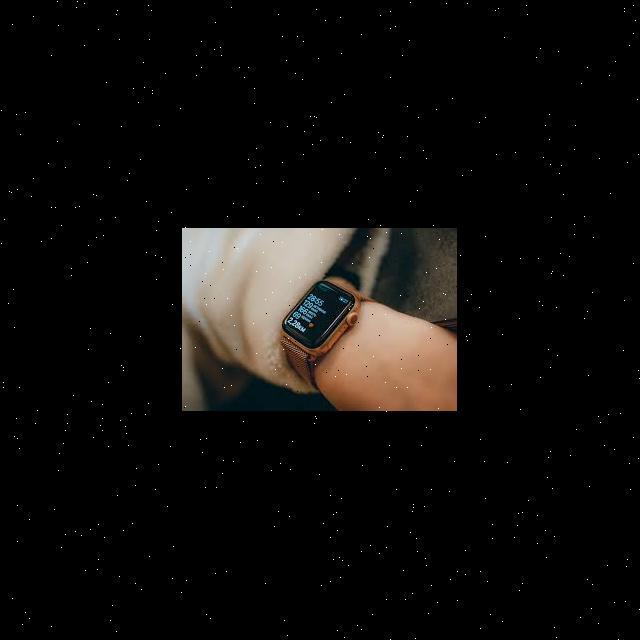watch: (273, 263, 375, 387)
